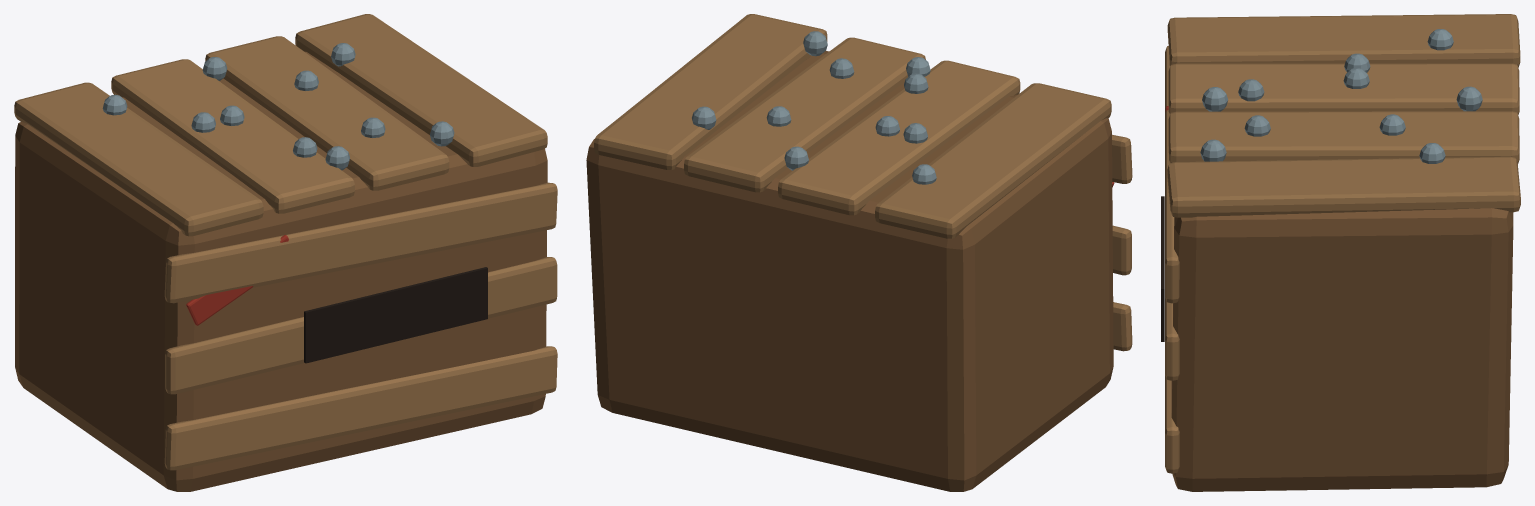
File: sealed_crate.glb
3 views of the same model, side by side, from view 1: azimuth 30°, elevation 25°; view 2: azimuth 150°, elevation 25°; view 3: azimuth 270°, elevation 25° (orthographic). The views are drawn at different scales.
Visible parts, largest first — view 1: SealedCrate_Mesh; view 2: SealedCrate_Mesh; view 3: SealedCrate_Mesh.
Boxes of the visible parts, box(x1,y1,x2,y2) form: SealedCrate_Mesh: box(14, 14, 557, 491); SealedCrate_Mesh: box(586, 14, 1132, 491); SealedCrate_Mesh: box(1161, 14, 1520, 491).
Size of the model in its own units: 0.6417 by 0.4718 by 0.4925.
